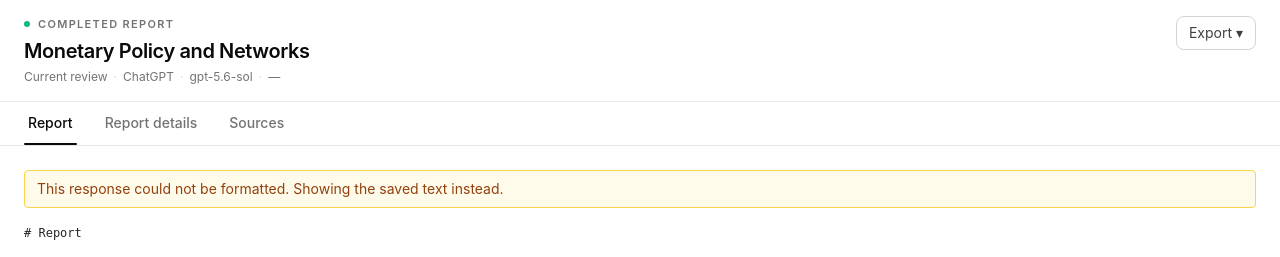
it: ReportWorkspace › keeps source bytes lazy until an artifact is selected
Click the tab "Sources" at [257, 123], box [225, 101, 288, 145]
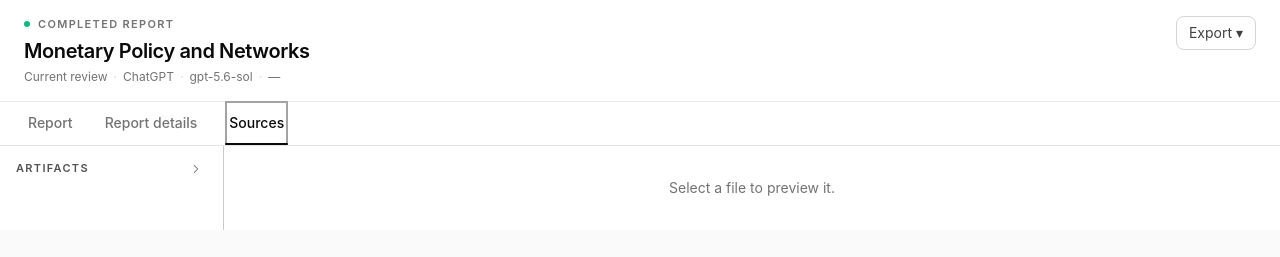
Expected: the text "Select a file to preview it." is shown, [669, 178, 835, 196]
